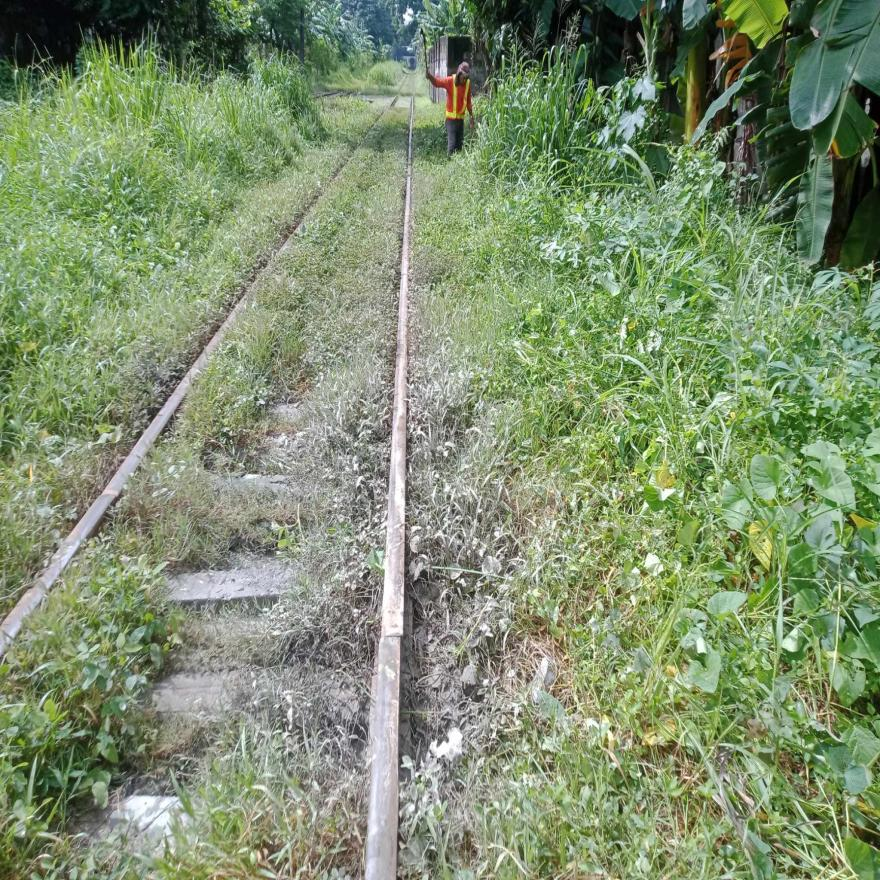railway-gap: (360, 601, 422, 681)
